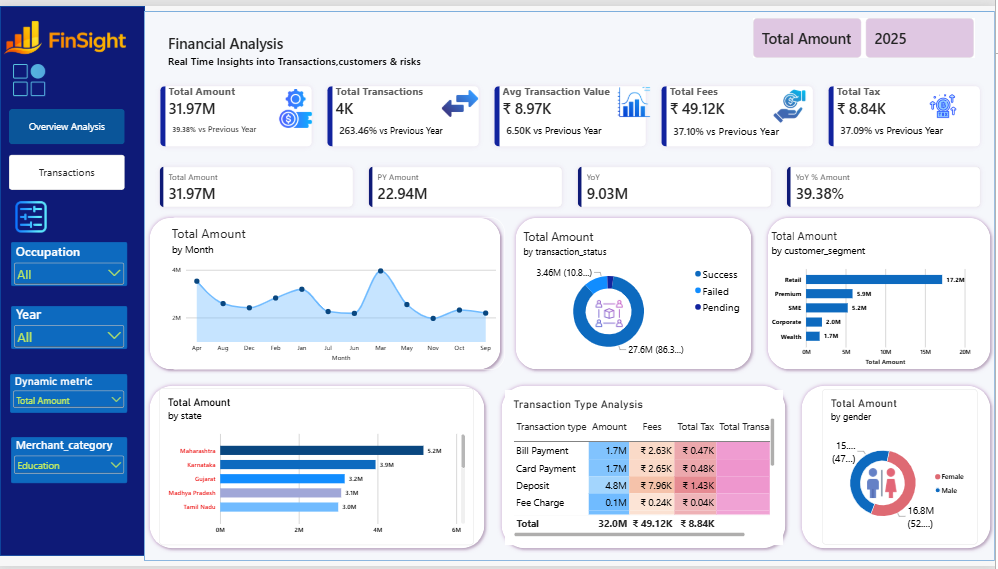

The page's visual inventory and layout, read from the dashboard file:
{"tool":"powerbi","page":{"name":"Overview Analysis","canvas":[1920,1080],"ordinal":0},"visuals":[{"type":"shape","box":[1.9,0,279.5,1060.2],"z":0},{"type":"shape","box":[279.5,9.6,1640.5,1060.2],"z":1},{"type":"image","box":[0,9.6,260.2,104.1],"z":2},{"type":"cardVisual","fields":{"Data":["Calendar Table.Dashboard"]},"box":[298.8,30.8,580.2,111.8],"z":3},{"type":"cardVisual","fields":{"Data":["finance_transactions.Total Amount","finance_transactions.Total Transactions","finance_transactions.Avg Transaction Value","finance_transactions.Total Fees","finance_transactions.Total Tax"]},"box":[298.8,142.7,1605.8,140.7],"z":4},{"type":"slicer","fields":{"Values":["Calendar Table.Year"]},"box":[23.1,578.3,223.6,82.9],"z":5},{"type":"cardVisual","fields":{"Data":["finance_transactions.Total Amount","finance_transactions.PY Amount","finance_transactions.YoY","finance_transactions.YoY % Amount"]},"box":[298.8,298.8,1605.8,100.2],"z":6},{"type":"image","box":[524.3,160,94.5,75.2],"z":7},{"type":"image","box":[848.2,150.4,81,75.2],"z":8},{"type":"image","box":[1484.3,160,79,65.5],"z":9},{"type":"image","box":[1187.5,152.3,73.3,65.5],"z":10},{"type":"image","box":[1779.3,161.9,81,61.7],"z":11},{"type":"slicer","fields":{"Values":["Dynamic metric.Dynamic metric"]},"box":[21.2,709.4,225.5,75.2],"z":12},{"type":"shape","box":[281.4,399,694,310.4],"z":13},{"type":"areaChart","fields":{"Category":["Calendar Table.Month"],"Y":["finance_transactions.Total Amount"]},"box":[316.1,406.7,659.3,294.9],"z":14},{"type":"cardVisual","fields":{"Data":["finance_transactions.Selected Dynamic Measure","finance_transactions.Selected Year"]},"box":[1453.5,23.1,428,77.1],"z":15},{"type":"shape","box":[987,399,472.3,310.4],"z":16},{"type":"donutChart","fields":{"Category":["finance_transactions.transaction_status"],"Y":["finance_transactions.Total Amount"]},"box":[994.7,414.5,458.8,279.5],"z":17},{"type":"shape","box":[1472.8,399,447.2,310.4],"z":18},{"type":"barChart","fields":{"Category":["customers (1).customer_segment"],"Y":["finance_transactions.Total Amount"]},"box":[1472.8,414.5,416.4,294.9],"z":19},{"type":"shape","box":[281.4,722.9,663.1,331.6],"z":20},{"type":"shape","box":[960,722.9,564.8,331.6],"z":21},{"type":"barChart","fields":{"Category":["customers (1).state"],"Y":["finance_transactions.Total Amount"]},"box":[308.4,736.4,607.2,302.7],"z":22},{"type":"tableEx","title":"Transaction Type Analysis","fields":{"Values":["finance_transactions.transaction_type","finance_transactions.Total Amount","finance_transactions.Total Fees","finance_transactions.Total Tax","finance_transactions.Total Transactions"]},"box":[975.4,740.2,535.9,298.8],"z":23},{"type":"shape","box":[1538.3,722.9,381.7,331.6],"z":24},{"type":"image","box":[1141.2,564.8,69.4,55.9],"z":26},{"type":"image","box":[1661.7,890.6,67.5,55.9],"z":27},{"type":"donutChart","fields":{"Category":["customers (1).gender"],"Y":["finance_transactions.Total Amount"]},"box":[1586.5,738.3,300,300],"z":28},{"type":"image","box":[1667.5,886.7,69.4,65.5],"z":29},{"type":"slicer","fields":{"Values":["customers (1).occupation"]},"box":[23.1,454.9,223.6,84.8],"z":30},{"type":"slicer","fields":{"Values":["finance_transactions.merchant_category"]},"box":[23.1,830.8,223.6,88.7],"z":31},{"type":"pageNavigator","box":[19.3,198.6,223.6,156.1],"z":32},{"type":"image","box":[23.1,111.8,69.4,61.7],"z":33},{"type":"image","box":[21.2,372,81,69.4],"z":34}]}

Visuals, with their boxes on the page's 1920x1080 design canvas (x1, y1, x2, y2). These are canvas units, not pixel positions in the 998x569 screenshot, which may show the page scaled, cropped or inside an application window:
shape: bbox(2, 0, 281, 1060)
shape: bbox(280, 10, 1920, 1070)
image: bbox(0, 10, 260, 114)
cardVisual - Calendar Table.Dashboard: bbox(299, 31, 879, 143)
cardVisual - finance_transactions.Total Amount x finance_transactions.Total Transactions: bbox(299, 143, 1905, 283)
slicer - Calendar Table.Year: bbox(23, 578, 247, 661)
cardVisual - finance_transactions.Total Amount x finance_transactions.PY Amount: bbox(299, 299, 1905, 399)
image: bbox(524, 160, 619, 235)
image: bbox(848, 150, 929, 226)
image: bbox(1484, 160, 1563, 226)
image: bbox(1188, 152, 1261, 218)
image: bbox(1779, 162, 1860, 224)
slicer - Dynamic metric.Dynamic metric: bbox(21, 709, 247, 785)
shape: bbox(281, 399, 975, 709)
areaChart - Calendar Table.Month x finance_transactions.Total Amount: bbox(316, 407, 975, 702)
cardVisual - finance_transactions.Selected Dynamic Measure x finance_transactions.Selected Year: bbox(1454, 23, 1882, 100)
shape: bbox(987, 399, 1459, 709)
donutChart - finance_transactions.transaction_status x finance_transactions.Total Amount: bbox(995, 414, 1454, 694)
shape: bbox(1473, 399, 1920, 709)
barChart - customers (1).customer_segment x finance_transactions.Total Amount: bbox(1473, 414, 1889, 709)
shape: bbox(281, 723, 944, 1054)
shape: bbox(960, 723, 1525, 1054)
barChart - customers (1).state x finance_transactions.Total Amount: bbox(308, 736, 916, 1039)
"Transaction Type Analysis" tableEx: bbox(975, 740, 1511, 1039)
shape: bbox(1538, 723, 1920, 1054)
image: bbox(1141, 565, 1211, 621)
image: bbox(1662, 891, 1729, 946)
donutChart - customers (1).gender x finance_transactions.Total Amount: bbox(1586, 738, 1886, 1038)
image: bbox(1668, 887, 1737, 952)
slicer - customers (1).occupation: bbox(23, 455, 247, 540)
slicer - finance_transactions.merchant_category: bbox(23, 831, 247, 920)
pageNavigator: bbox(19, 199, 243, 355)
image: bbox(23, 112, 92, 174)
image: bbox(21, 372, 102, 441)
